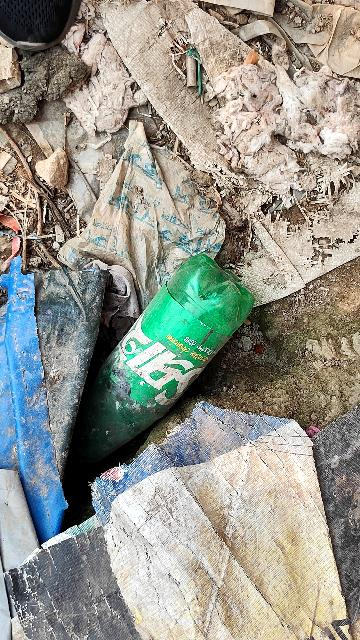bottle: (29, 241, 261, 494)
